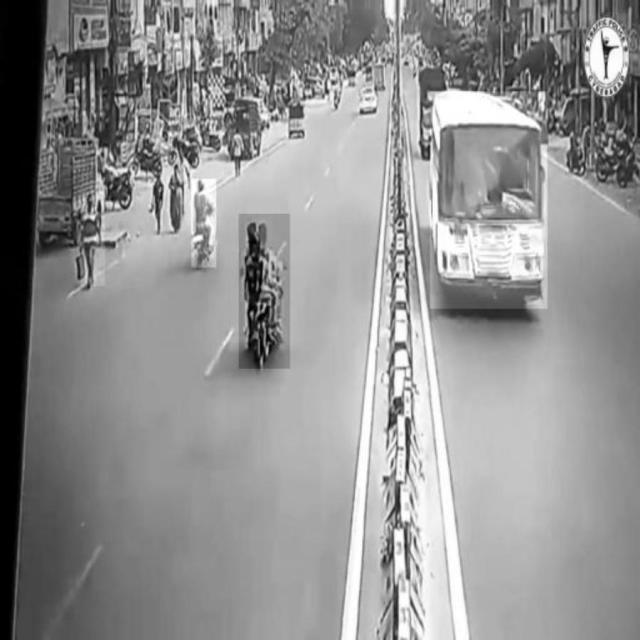accident: (239, 214, 290, 368)
person: (80, 192, 105, 286)
vehicle: (430, 92, 548, 309), (192, 180, 217, 268)
